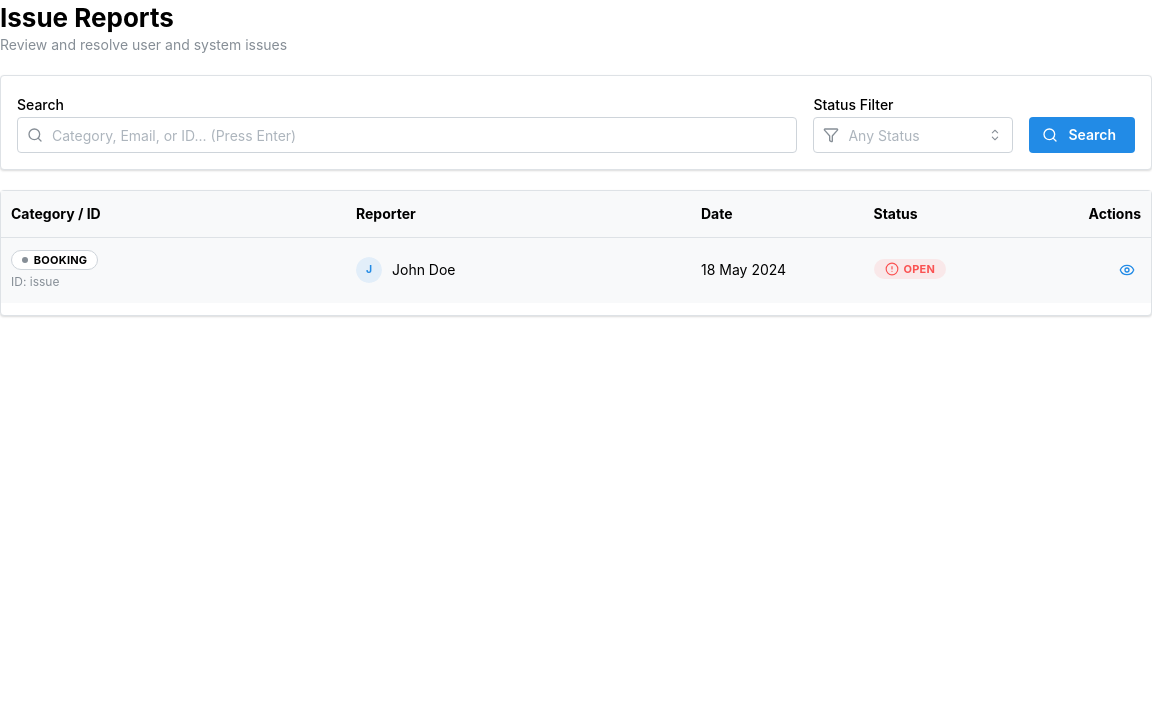
it: IssueManagement Component › opens issue details modal when view icon is clicked
Click the button without text in the row of "Booking" at (1127, 270), box [1113,256,1141,284]
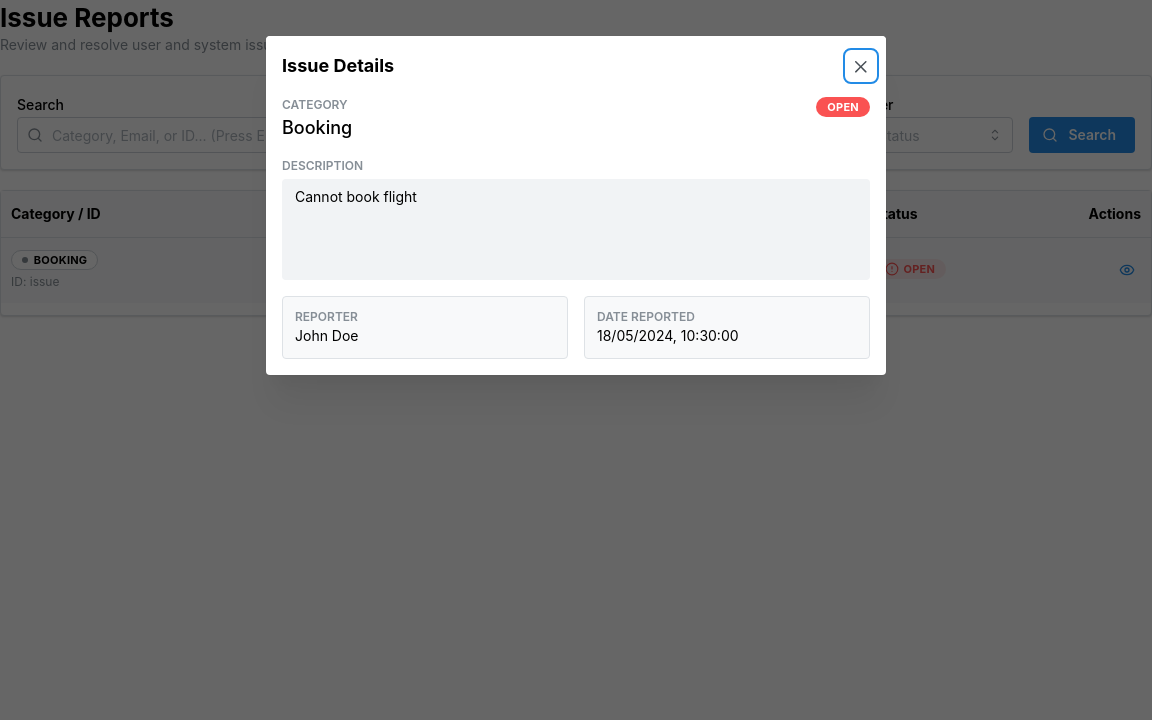
Result: the text "Issue Details" is shown at [282,52,394,81]
Result: the text box "Cannot book flight" is shown at [282,179,870,280]
